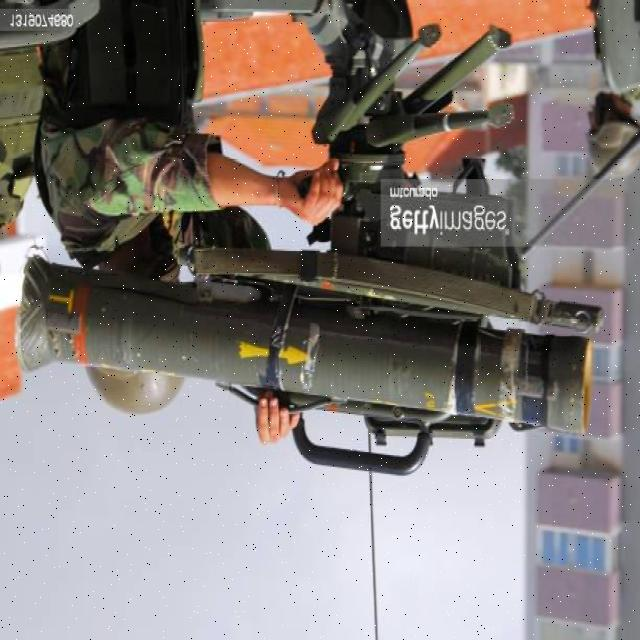bazooka: (14, 242, 605, 496)
